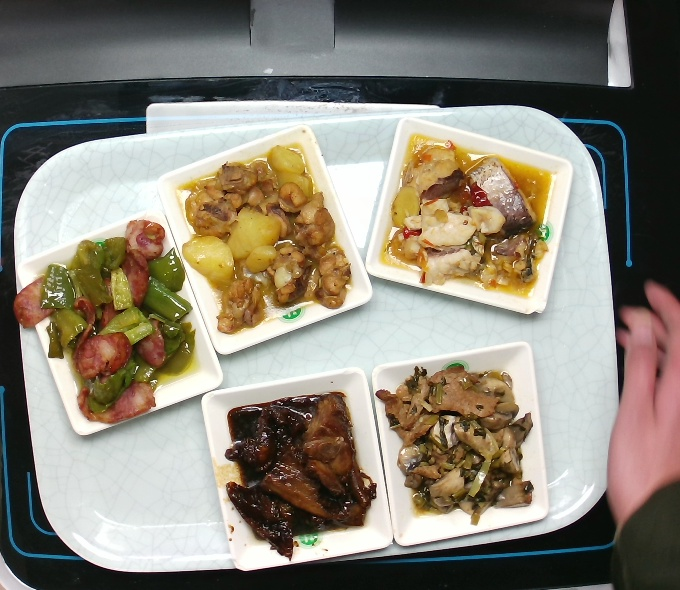wcq-JiangZhiYa: (221, 387, 375, 558)
wcq-MoGuRouPian: (373, 361, 539, 527)
wcq-QingJiaoXiangChang: (10, 218, 199, 428)
wcq-SuanCaiYu: (378, 131, 554, 302)
wcq-TuDouJiKuai: (179, 143, 354, 339)
